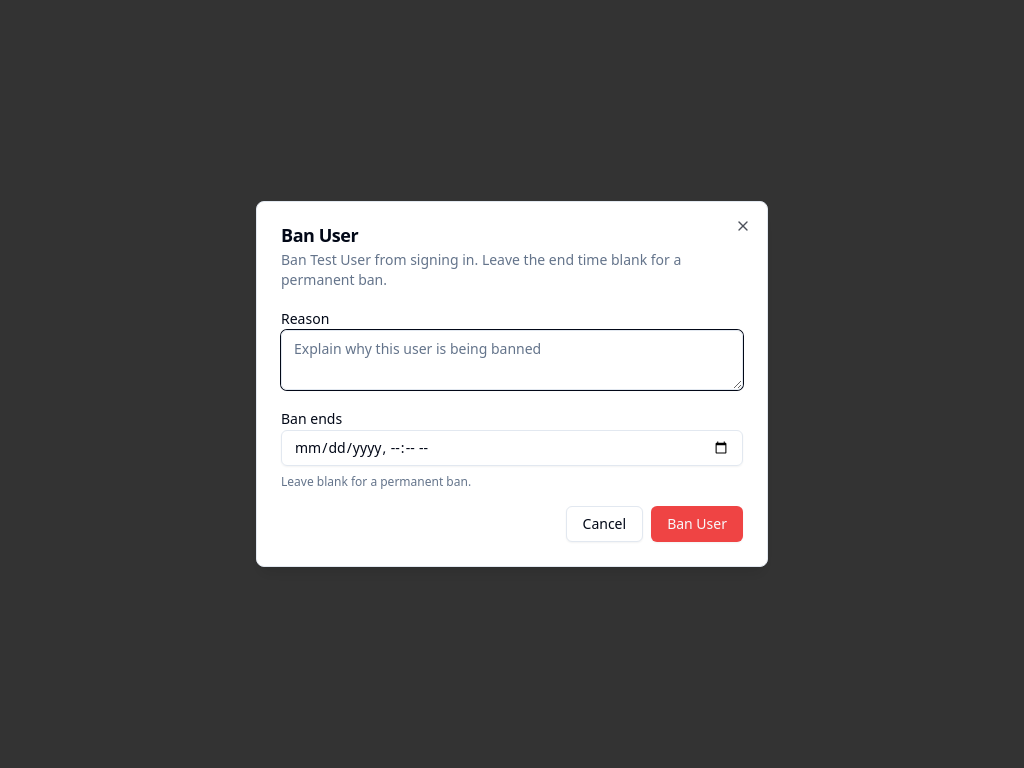
BanUserDialog › requires a reason
Click the button "Ban User" at (697, 524), box [651, 506, 743, 542]
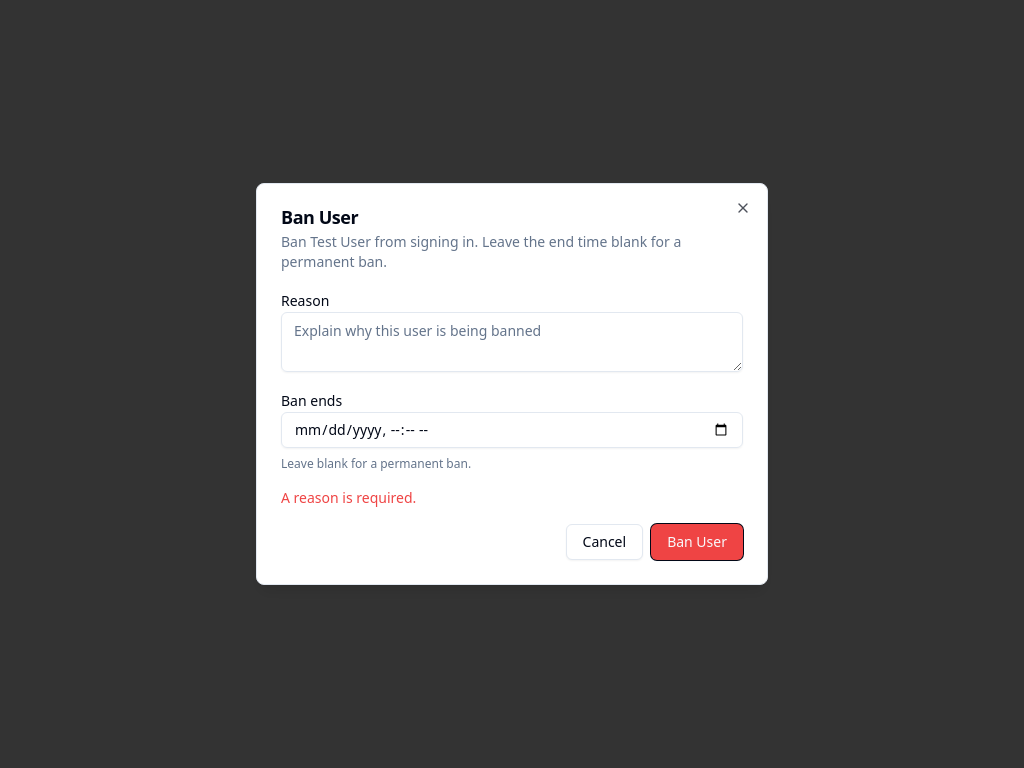
Result: the message reads "A reason is required." at [281, 488, 416, 507]
